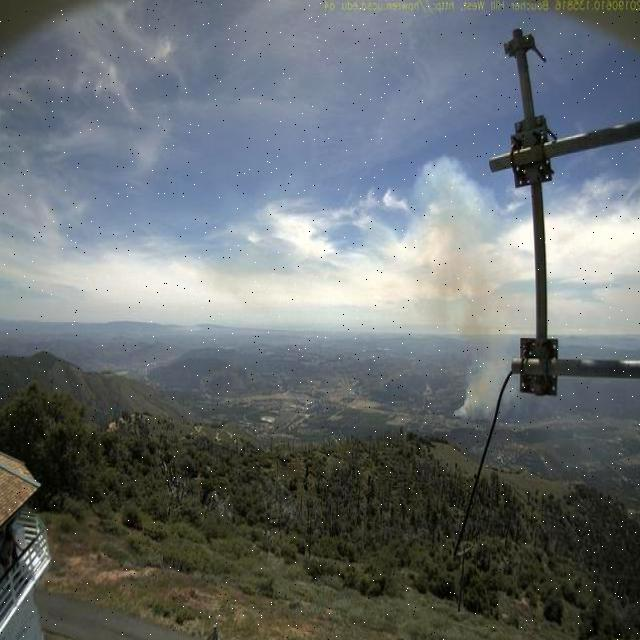smoke: (441, 218, 524, 423)
